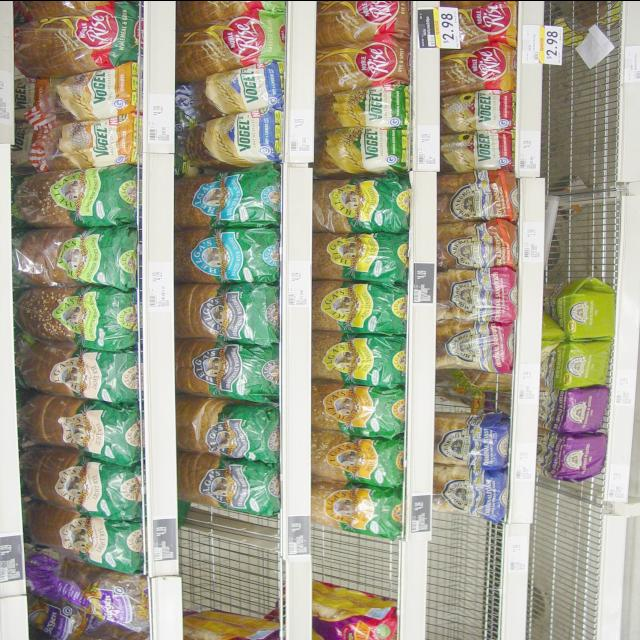empty_space: (564, 6, 615, 263), (535, 483, 602, 637), (429, 527, 501, 637), (187, 548, 277, 608), (313, 536, 395, 580)
